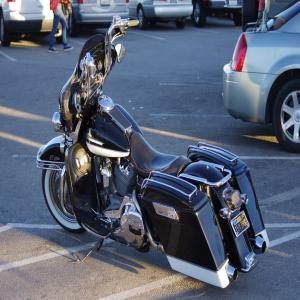Vehicle-registration-plate: (234, 213, 251, 236)
